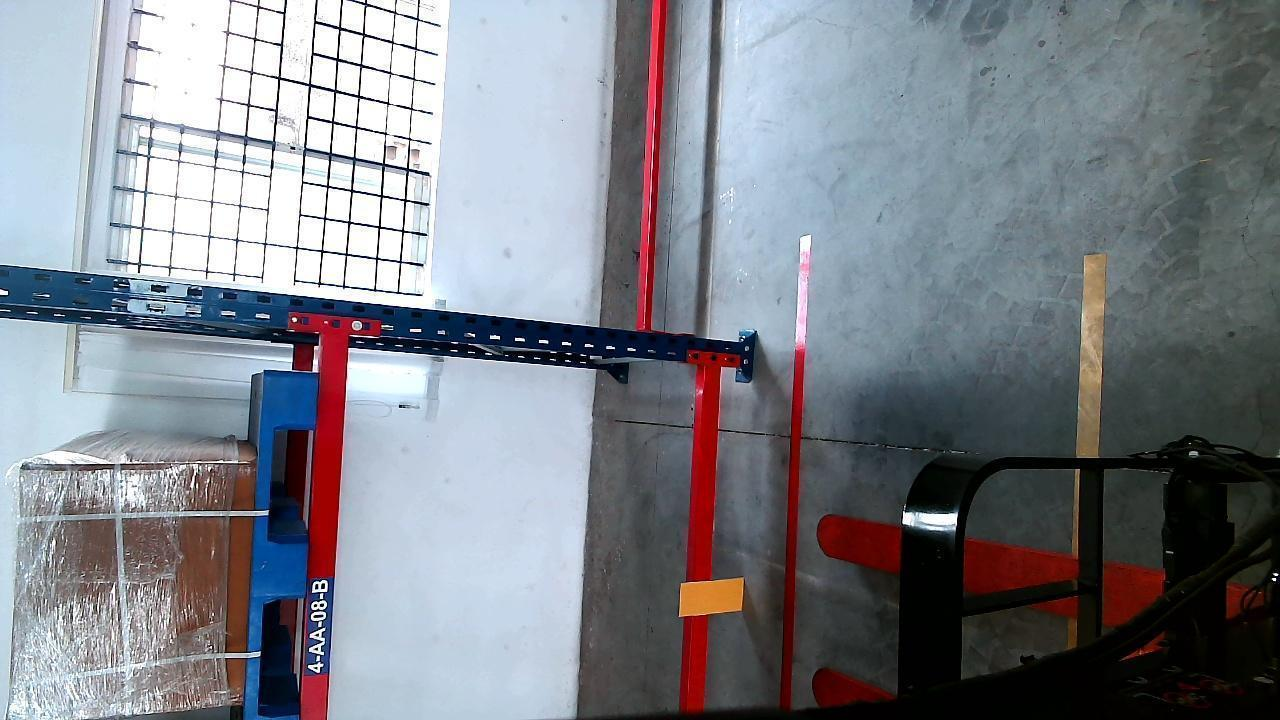red_line: (777, 231, 812, 717), (637, 0, 667, 331)
yellow_line: (1077, 253, 1104, 454)
